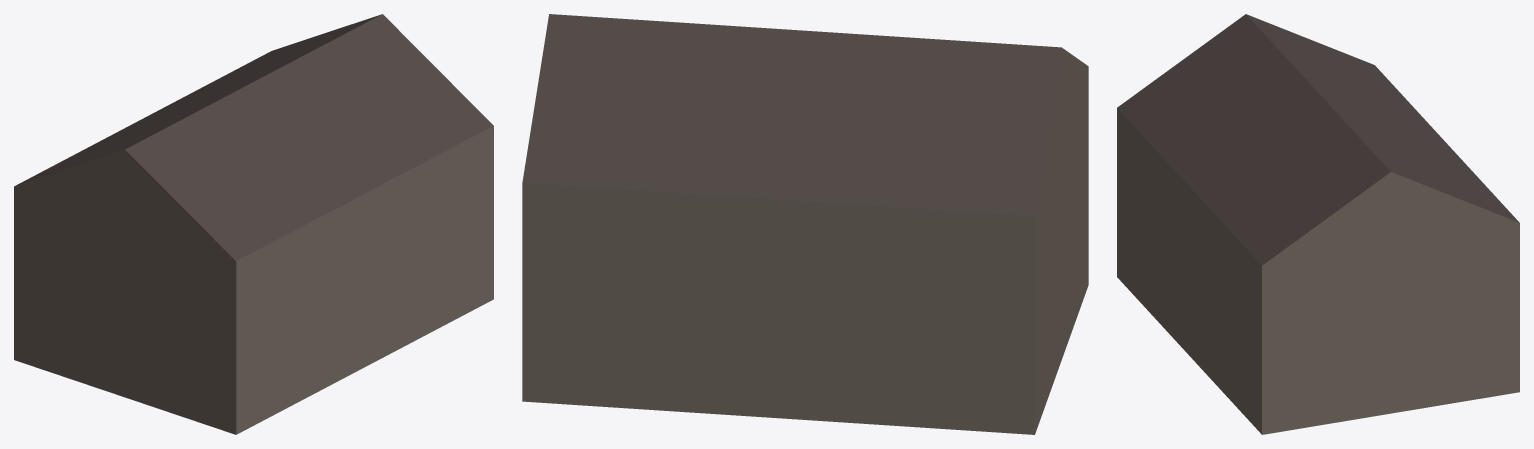
3 renders of one model, left to right at view 1: azimuth 30°, elevation 25°; view 2: azimuth 150°, elevation 25°; view 3: azimuth 270°, elevation 25°, orthographic. The views are drawn at different scales.
Parts seen in each view (by area): view 1: HP-w859082481; view 2: HP-w859082481; view 3: HP-w859082481.
Boxes of the visible parts, box(x1,y1,x2,y2) form: HP-w859082481: box(14, 14, 493, 434); HP-w859082481: box(522, 14, 1088, 434); HP-w859082481: box(1117, 14, 1519, 434).
Size of the model in its own units: 22.89 by 12.85 by 19.42.
